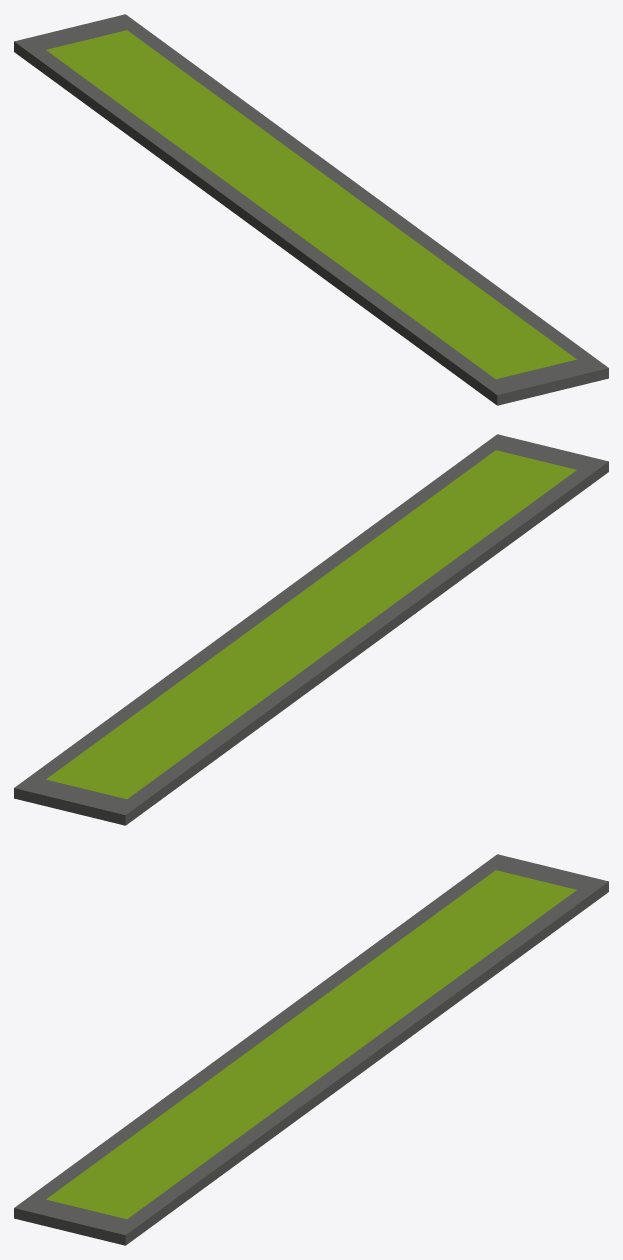
Rendered from cpsMap_Curb.obj.
The picture shows the model from 3 angles, top to bottom: view 1: azimuth 30°, elevation 25°; view 2: azimuth 150°, elevation 25°; view 3: azimuth 330°, elevation 25°; orthographic projection.
Parts seen in each view (by area): view 1: Curb.002_Cube.004; view 2: Curb.002_Cube.004; view 3: Curb.002_Cube.004.
Part boxes in pixels (box(x1,y1,x2,y2)): Curb.002_Cube.004: box(14, 14, 608, 405); Curb.002_Cube.004: box(14, 434, 608, 825); Curb.002_Cube.004: box(14, 854, 608, 1245).
Size of the model in its own units: 1.98 by 0.1782 by 14.85.
